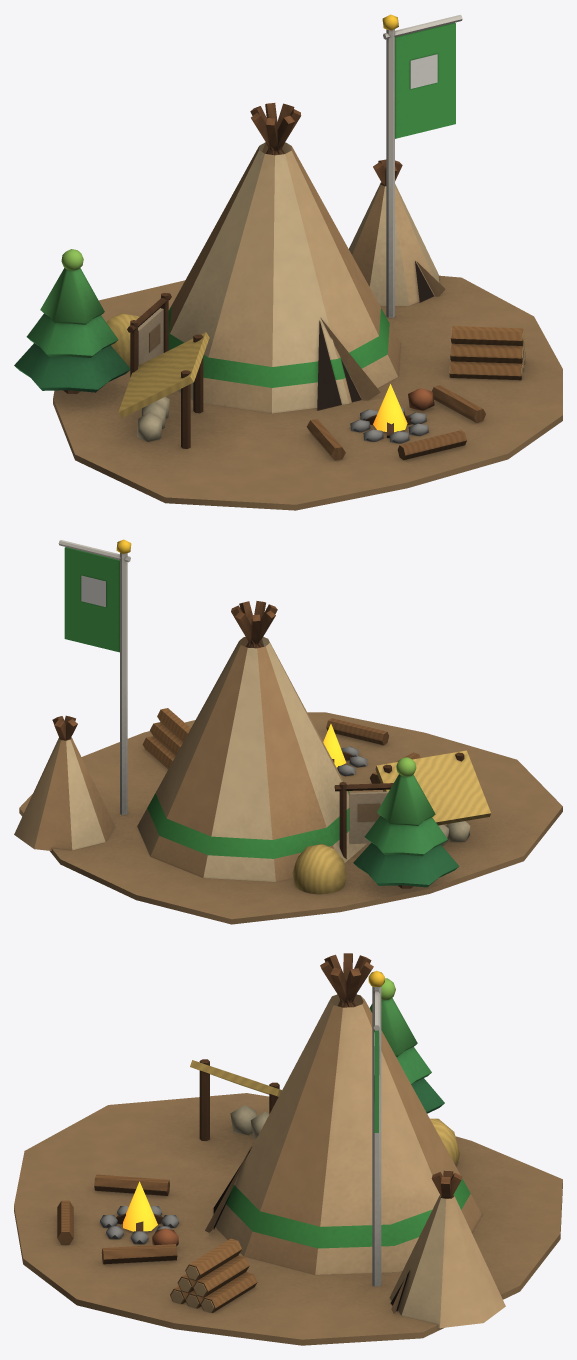
Rendered from residence_dl1_green.glb.
The picture shows the model from 3 angles, top to bottom: view 1: azimuth 30°, elevation 25°; view 2: azimuth 150°, elevation 25°; view 3: azimuth 270°, elevation 25°; orthographic projection. The views are drawn at different scales.
Parts seen in each view (by area): view 1: residence_dl1_green; view 2: residence_dl1_green; view 3: residence_dl1_green.
Boxes of the visible parts, x1,y1,x2,y2 form: residence_dl1_green: [14, 14, 562, 510]; residence_dl1_green: [14, 539, 562, 924]; residence_dl1_green: [14, 953, 562, 1345].
Bounding box in the file's own units: 1.57 × 1.01 × 1.48.
Materials: 3 (1 with a texture image).
